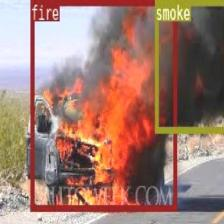fire: (29, 0, 175, 209)
smoke: (154, 0, 224, 131)
